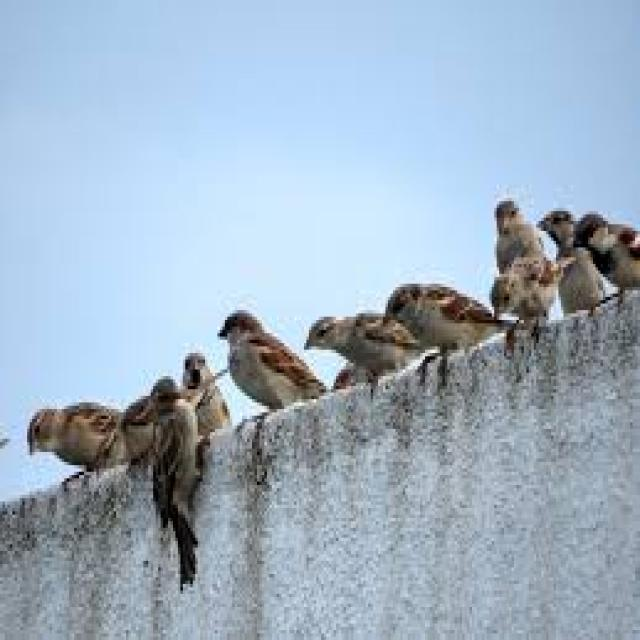bird: (219, 308, 335, 422)
